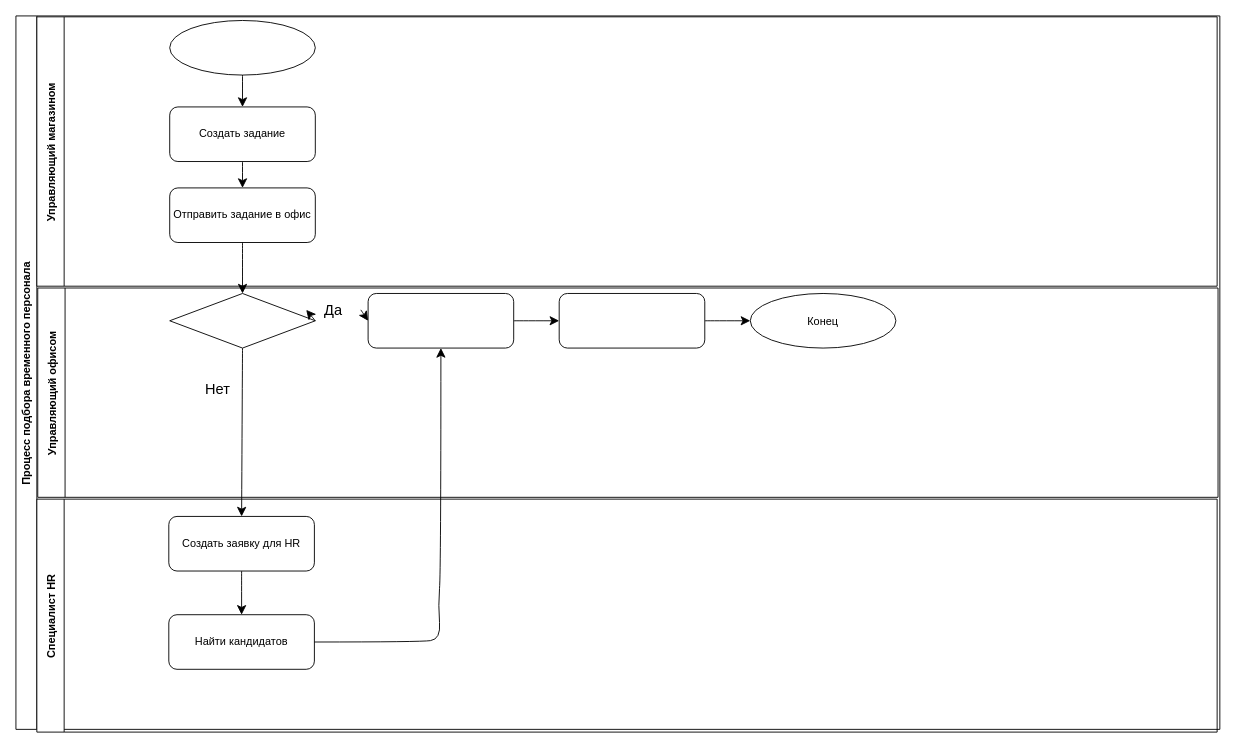
This 1236x748 diagram has some shape labels left out. Here are the shapes that lost their labels. From the top down, the centre of each, then its label:
At point (242, 47): "Начало".
At point (242, 320): "Сотрудники есть?".
At point (440, 320): "Назначить сотрудников".
At point (631, 320): "Проверить задание".
